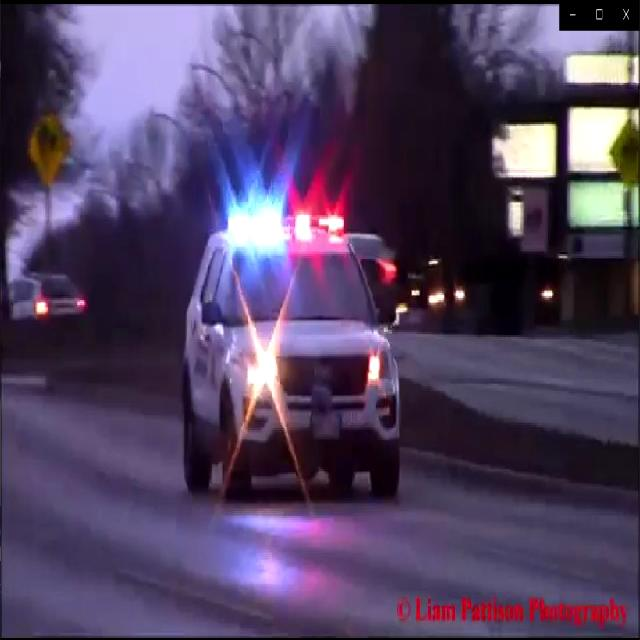emergency: (179, 173, 405, 496)
